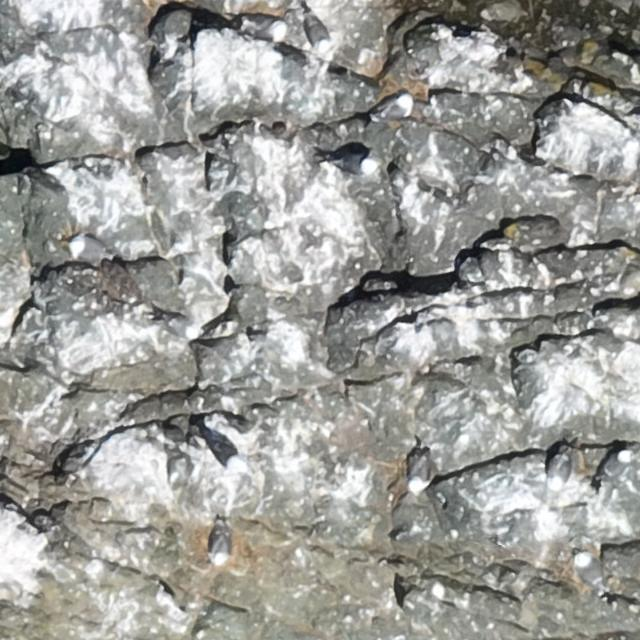umineko: (206, 430, 249, 476), (238, 14, 286, 42), (576, 557, 602, 591), (330, 154, 372, 173), (378, 95, 412, 117), (409, 454, 428, 488), (71, 240, 101, 260), (212, 530, 230, 563), (307, 18, 327, 46), (550, 457, 568, 485)
